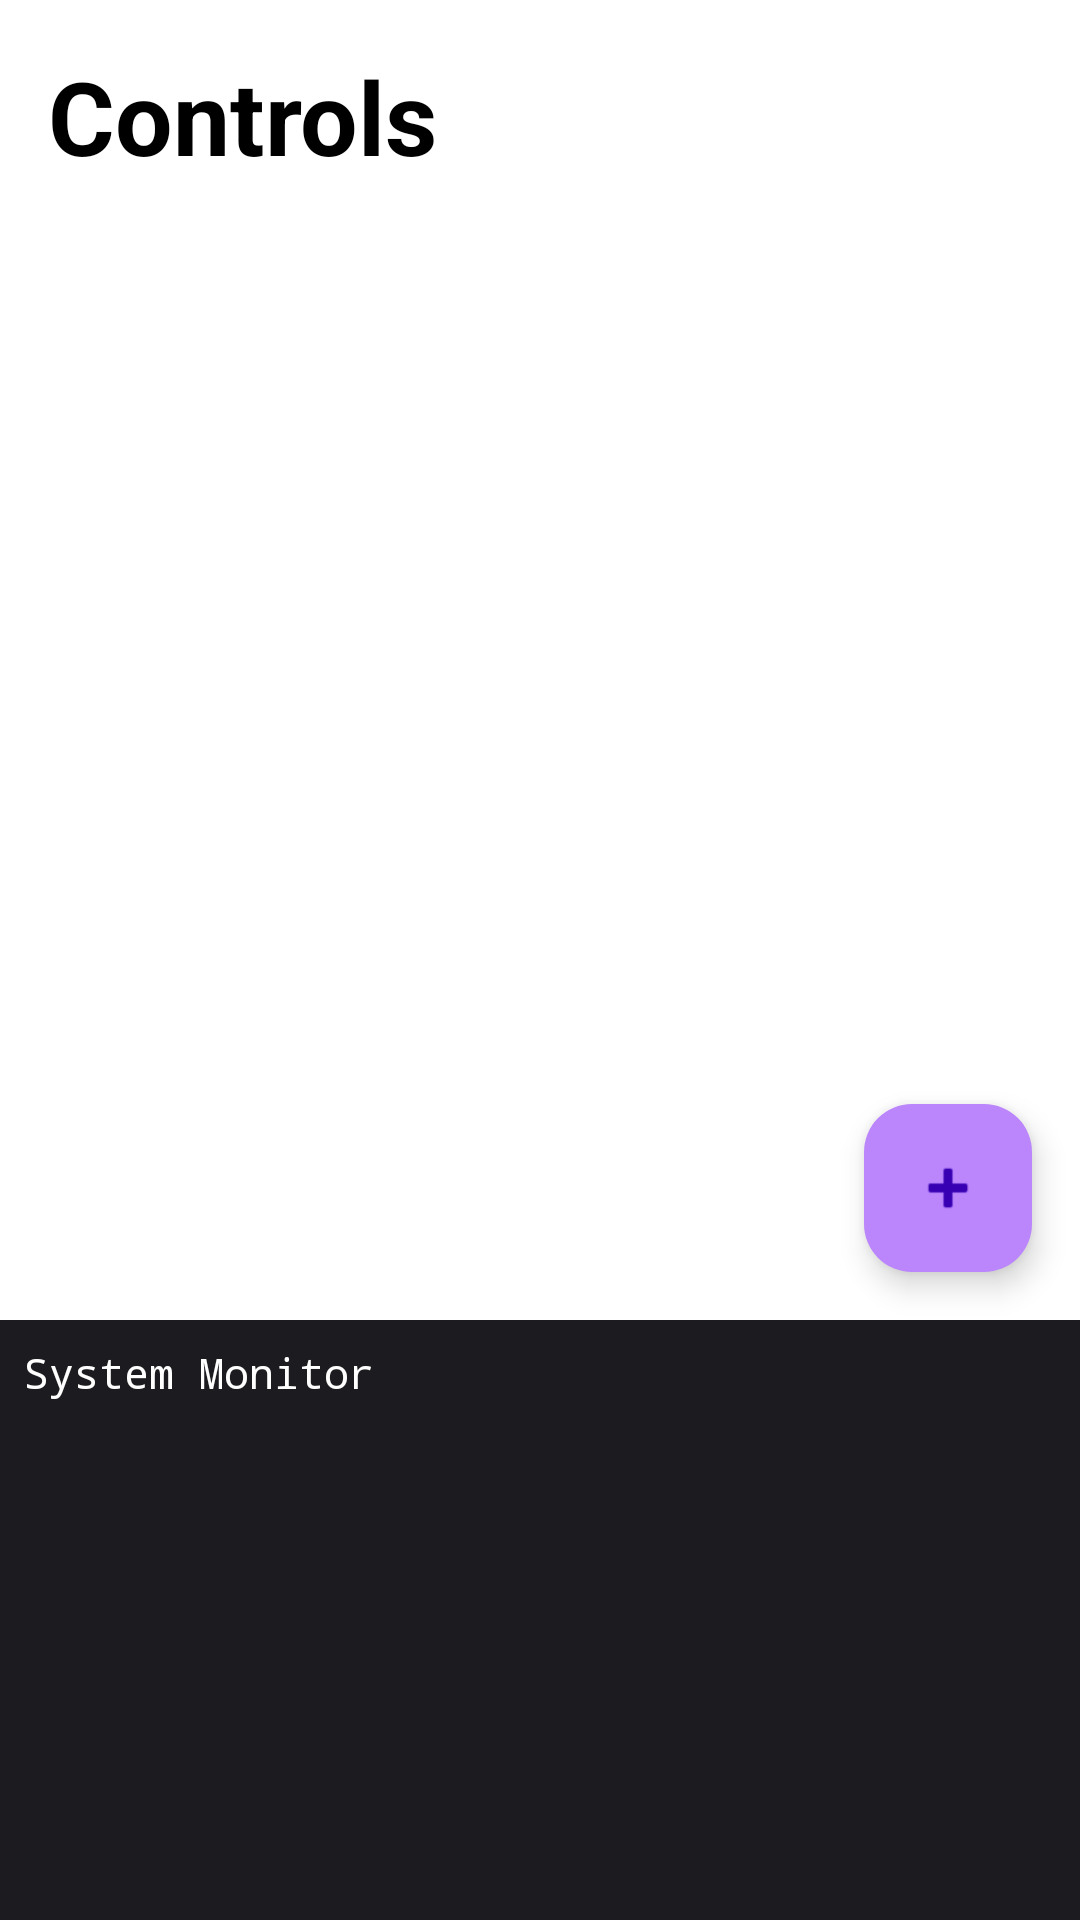

Where to tap for icons on this 1080 x 1920 app screen, as point (x, y):
Add Control: point (948, 1188)
